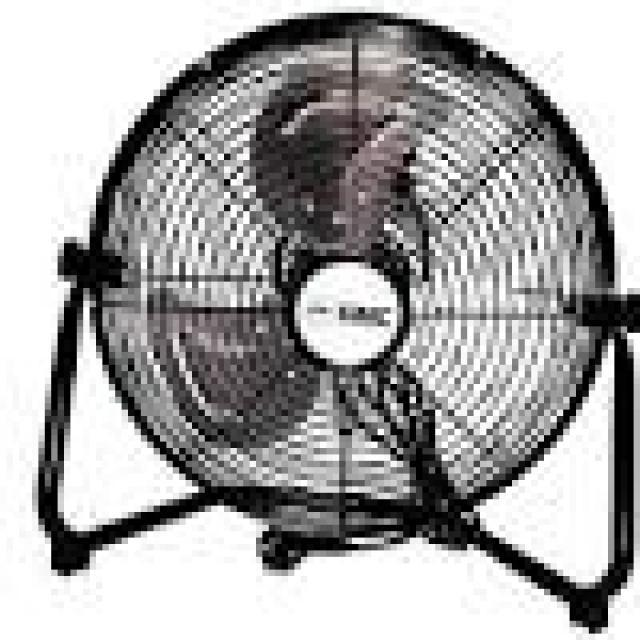fan: (28, 5, 640, 624)
